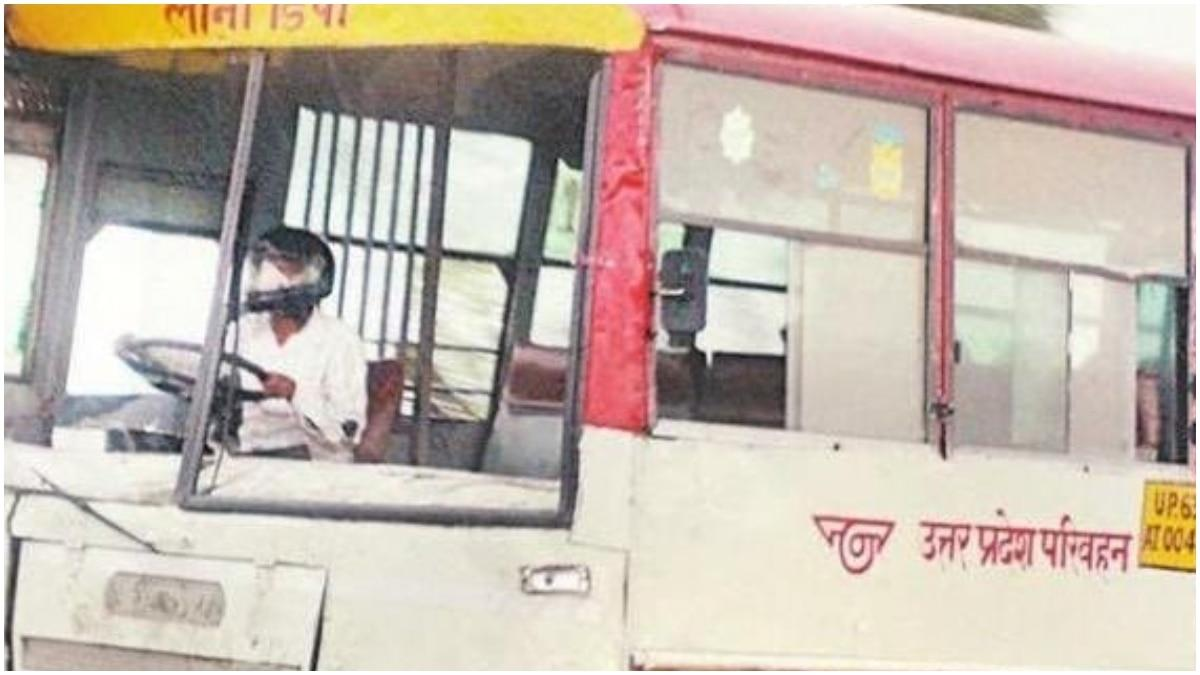Helmet: (236, 226, 337, 357)
